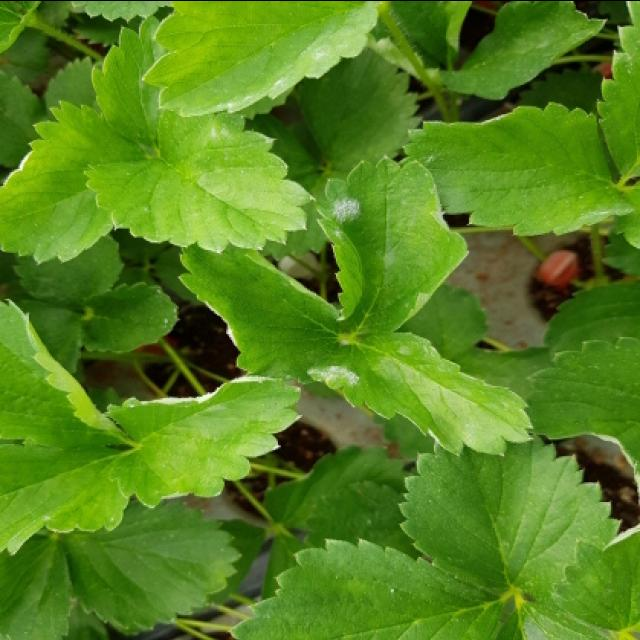Powdery Mildew Leaf: (76, 106, 315, 254), (312, 154, 471, 339), (140, 0, 380, 118), (176, 242, 357, 391), (106, 374, 304, 509), (0, 97, 154, 263), (342, 330, 534, 457), (525, 335, 638, 486)
